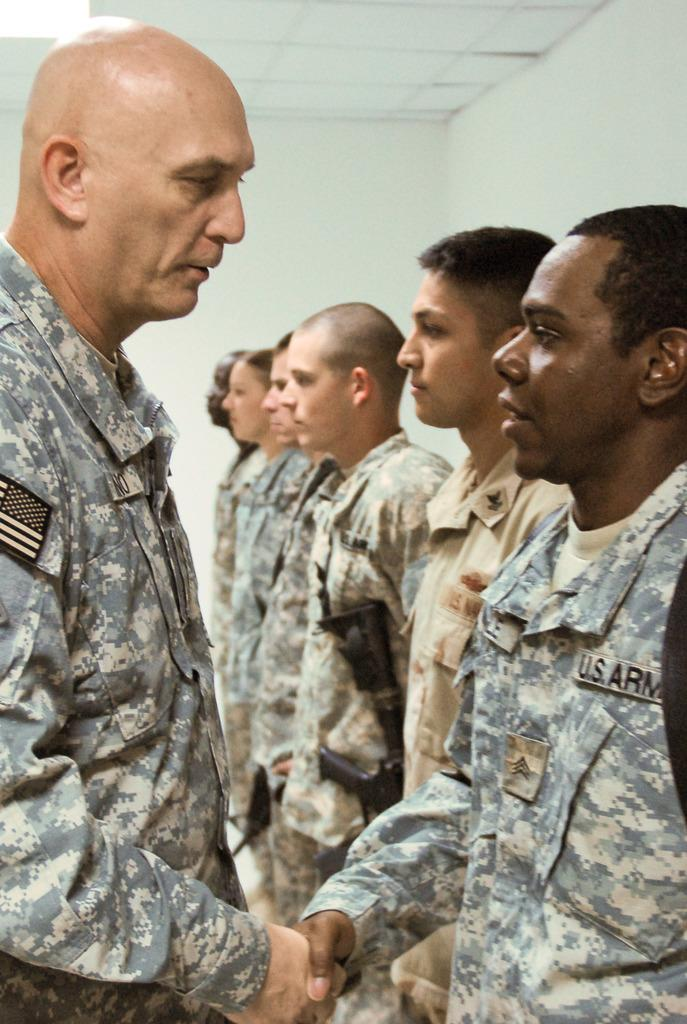Sem Máscara: (85, 76, 253, 316), (492, 230, 646, 474), (396, 265, 486, 419), (283, 326, 350, 443), (220, 355, 260, 440), (262, 347, 295, 436), (206, 348, 232, 421)
